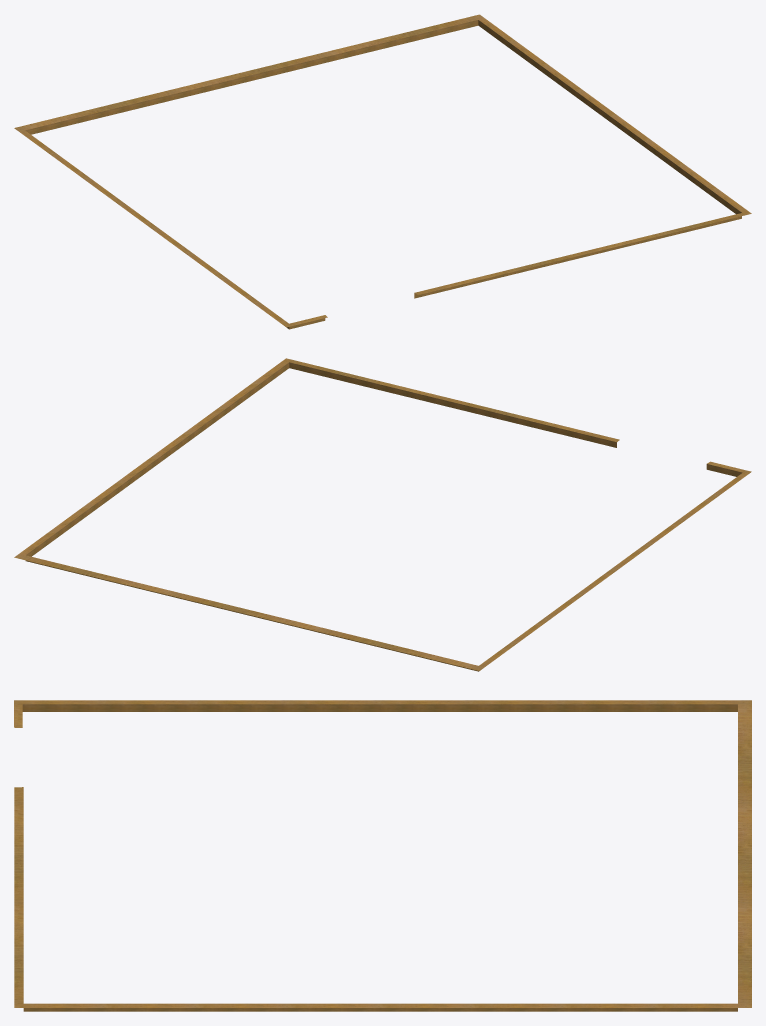
Rendered from judge skirting.FBX.
3 views of the same model, one above another, from view 1: azimuth 30°, elevation 25°; view 2: azimuth 150°, elevation 25°; view 3: azimuth 270°, elevation 25° (orthographic). The views are drawn at different scales.
Parts seen in each view (by area): view 1: Skirting board; view 2: Skirting board; view 3: Skirting board.
Part boxes in pixels (bbox=[...]): Skirting board: bbox=[14, 14, 751, 329]; Skirting board: bbox=[14, 358, 751, 671]; Skirting board: bbox=[14, 700, 751, 1011].
Bounding box in the file's own units: 194 × 2.31 × 196.
1 material, 1 textured.
